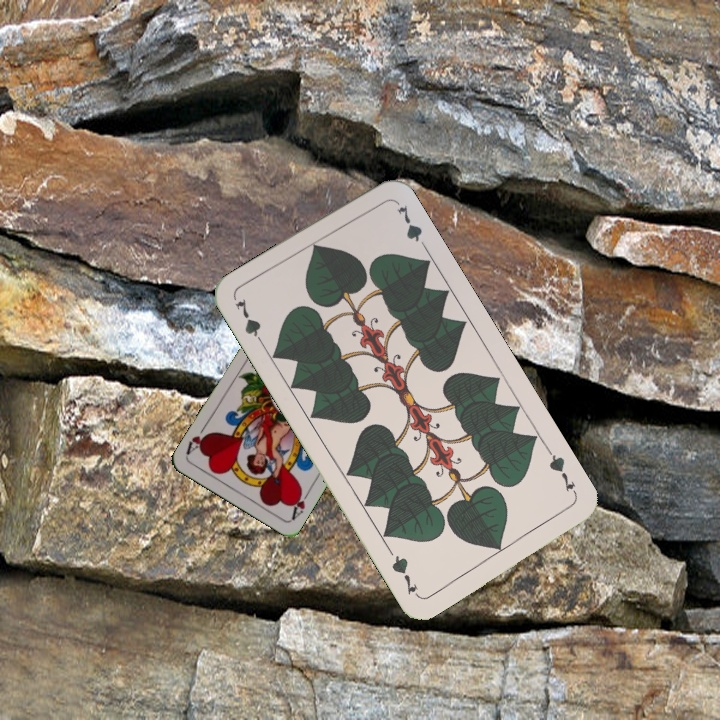G7: (231, 294, 268, 350), (544, 446, 580, 500)
HA: (287, 483, 313, 523)
